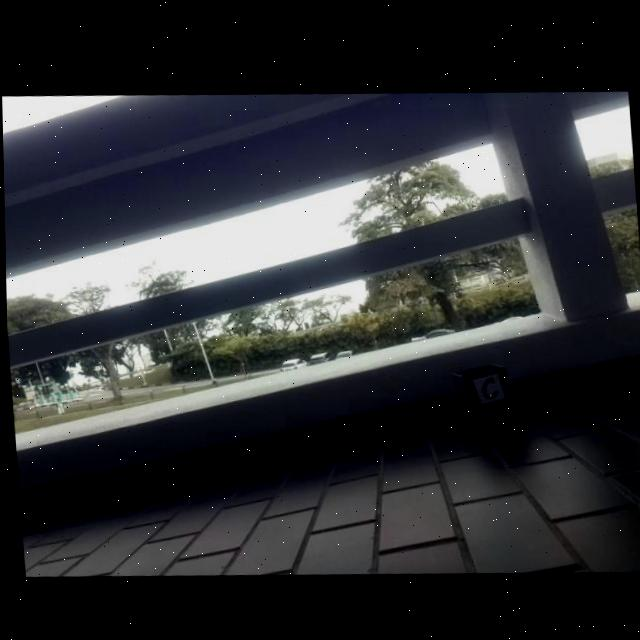C: (480, 373, 497, 395)
